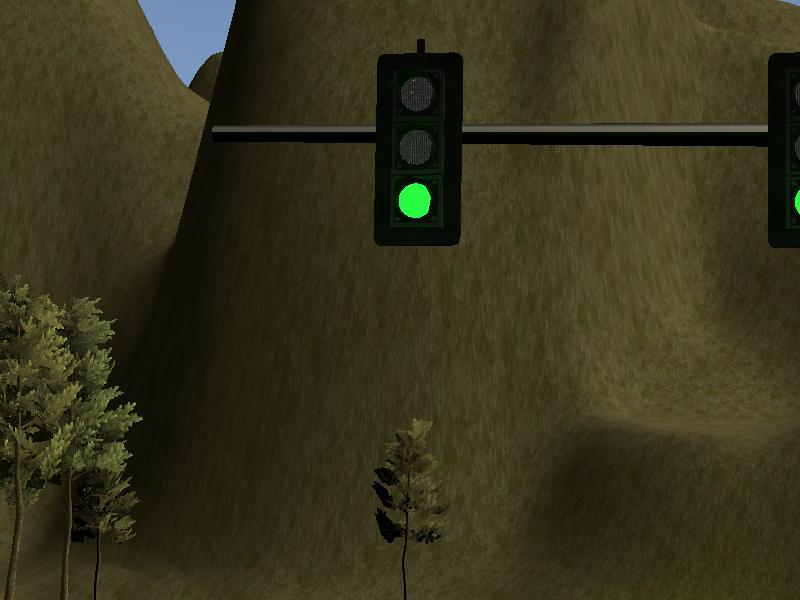Green: (372, 53, 460, 246)
